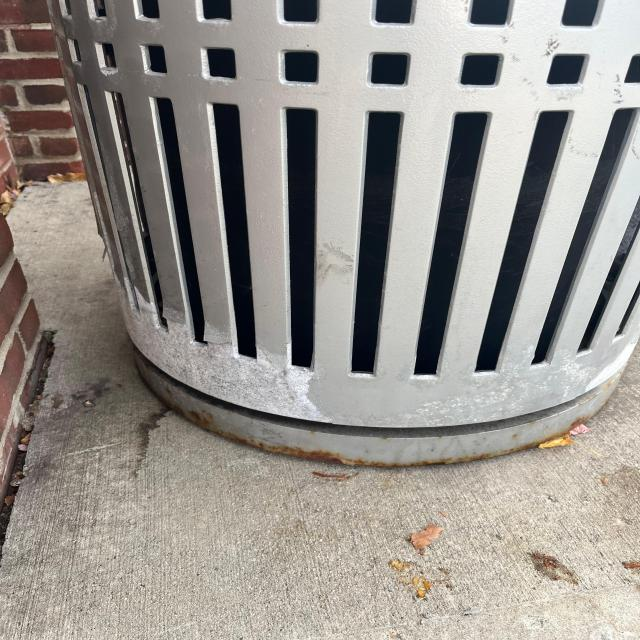Uniform Corrosion: (262, 416, 571, 467)
